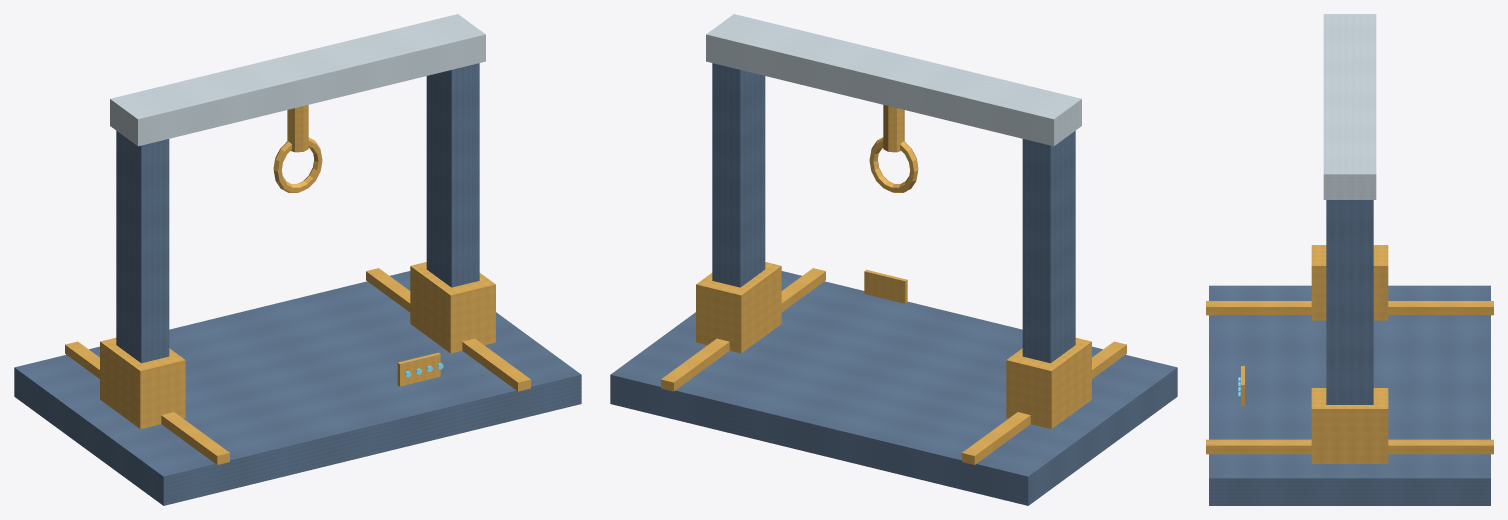
File: atlas100-s058-a02.glb
The picture shows the model from 3 angles, left to right: view 1: azimuth 30°, elevation 25°; view 2: azimuth 150°, elevation 25°; view 3: azimuth 270°, elevation 25°; orthographic projection. The views are drawn at different scales.
Parts seen in each view (by area): view 1: atlas100-s058-a02:part-000, atlas100-s058-a02:part-007, atlas100-s058-a02:part-003, atlas100-s058-a02:part-005, atlas100-s058-a02:part-006, atlas100-s058-a02:part-004, atlas100-s058-a02:part-002, atlas100-s058-a02:part-001, atlas100-s058-a02:part-009, atlas100-s058-a02:part-010, atlas100-s058-a02:part-008; view 2: atlas100-s058-a02:part-000, atlas100-s058-a02:part-007, atlas100-s058-a02:part-003, atlas100-s058-a02:part-005, atlas100-s058-a02:part-006, atlas100-s058-a02:part-004, atlas100-s058-a02:part-002, atlas100-s058-a02:part-001, atlas100-s058-a02:part-009, atlas100-s058-a02:part-010, atlas100-s058-a02:part-008; view 3: atlas100-s058-a02:part-000, atlas100-s058-a02:part-007, atlas100-s058-a02:part-005, atlas100-s058-a02:part-006, atlas100-s058-a02:part-002, atlas100-s058-a02:part-001, atlas100-s058-a02:part-004.
Boxes of the visible parts, <box> form: atlas100-s058-a02:part-000: <box>14,271,581,505</box>; atlas100-s058-a02:part-007: <box>110,14,485,146</box>; atlas100-s058-a02:part-003: <box>116,131,169,363</box>; atlas100-s058-a02:part-005: <box>426,63,479,287</box>; atlas100-s058-a02:part-006: <box>410,262,495,353</box>; atlas100-s058-a02:part-004: <box>100,337,185,428</box>; atlas100-s058-a02:part-002: <box>366,268,530,391</box>; atlas100-s058-a02:part-001: <box>65,341,229,464</box>; atlas100-s058-a02:part-009: <box>273,137,322,192</box>; atlas100-s058-a02:part-010: <box>397,352,440,386</box>; atlas100-s058-a02:part-008: <box>287,105,308,152</box>; atlas100-s058-a02:part-000: <box>610,271,1177,505</box>; atlas100-s058-a02:part-007: <box>706,14,1081,146</box>; atlas100-s058-a02:part-003: <box>1022,131,1075,363</box>; atlas100-s058-a02:part-005: <box>712,63,765,287</box>; atlas100-s058-a02:part-006: <box>696,262,781,353</box>; atlas100-s058-a02:part-004: <box>1006,337,1091,428</box>; atlas100-s058-a02:part-002: <box>661,268,825,391</box>; atlas100-s058-a02:part-001: <box>962,341,1126,464</box>; atlas100-s058-a02:part-009: <box>869,137,918,192</box>; atlas100-s058-a02:part-010: <box>864,269,907,303</box>; atlas100-s058-a02:part-008: <box>883,105,904,152</box>; atlas100-s058-a02:part-000: <box>1209,285,1490,505</box>; atlas100-s058-a02:part-007: <box>1323,14,1376,199</box>; atlas100-s058-a02:part-005: <box>1326,200,1373,404</box>; atlas100-s058-a02:part-006: <box>1311,388,1388,463</box>; atlas100-s058-a02:part-002: <box>1206,439,1493,454</box>; atlas100-s058-a02:part-001: <box>1206,301,1493,315</box>; atlas100-s058-a02:part-004: <box>1311,245,1388,320</box>.
Bounding box in the file's own units: 3.88 × 2.96 × 2.45.
Materials: 4 (4 with a texture image).
